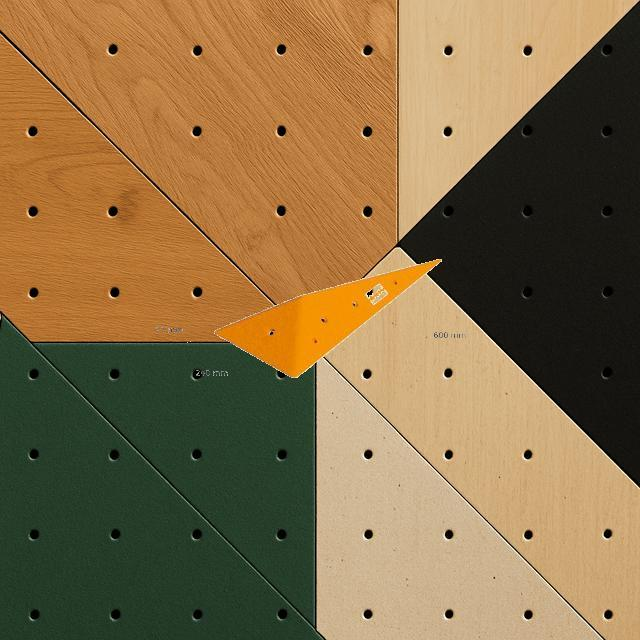Volume: (212, 258, 442, 378)
